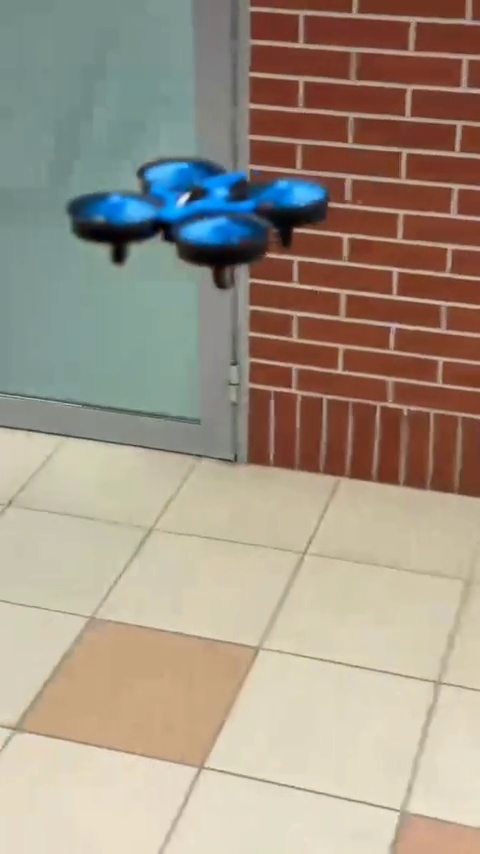drone: (68, 154, 331, 286)
